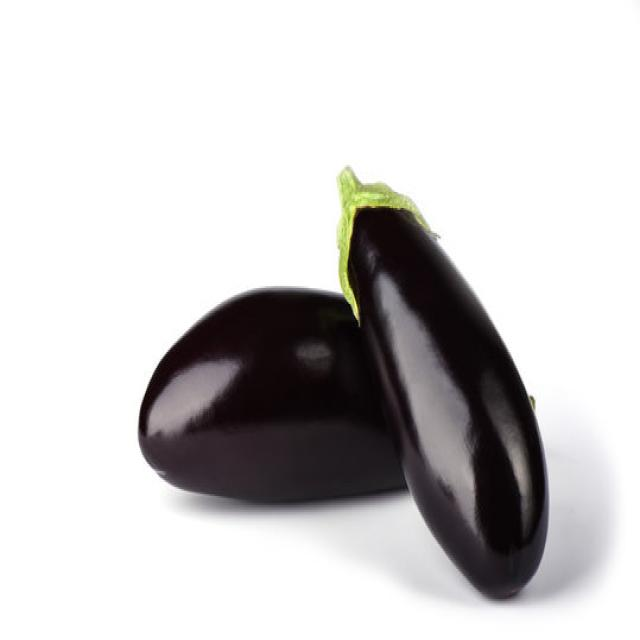Eggplant: (333, 164, 550, 599), (136, 283, 408, 505)
